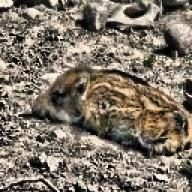boar: (19, 64, 192, 157)
